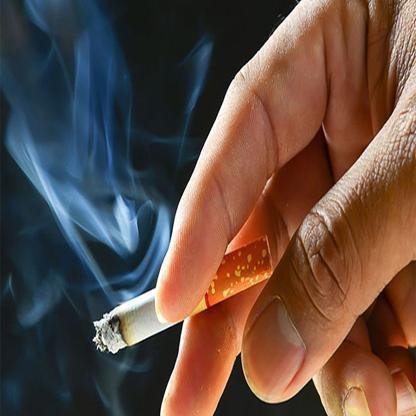trash: (92, 235, 275, 356)
